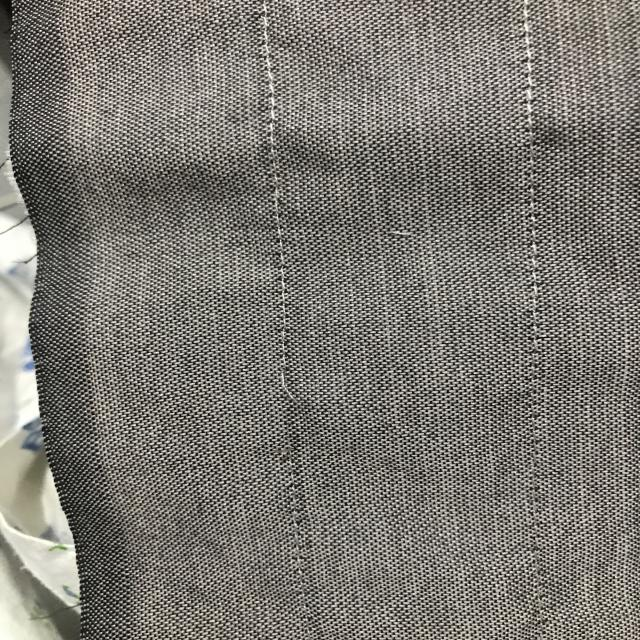broken: (241, 351, 317, 486)
good: (248, 85, 311, 252)
